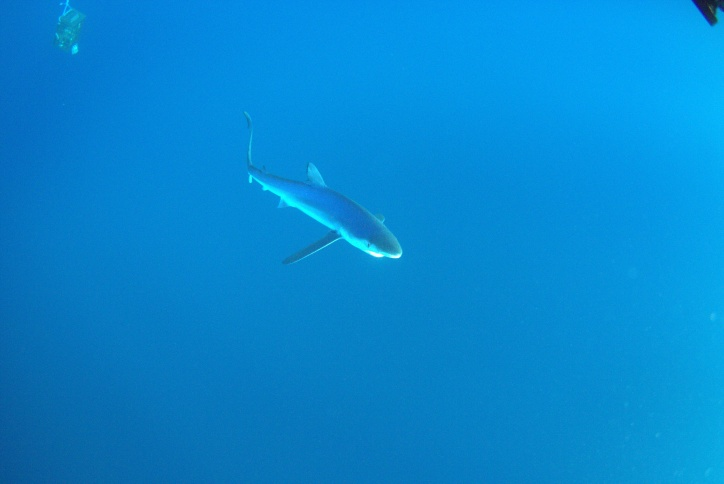Azul: (208, 112, 451, 285)
